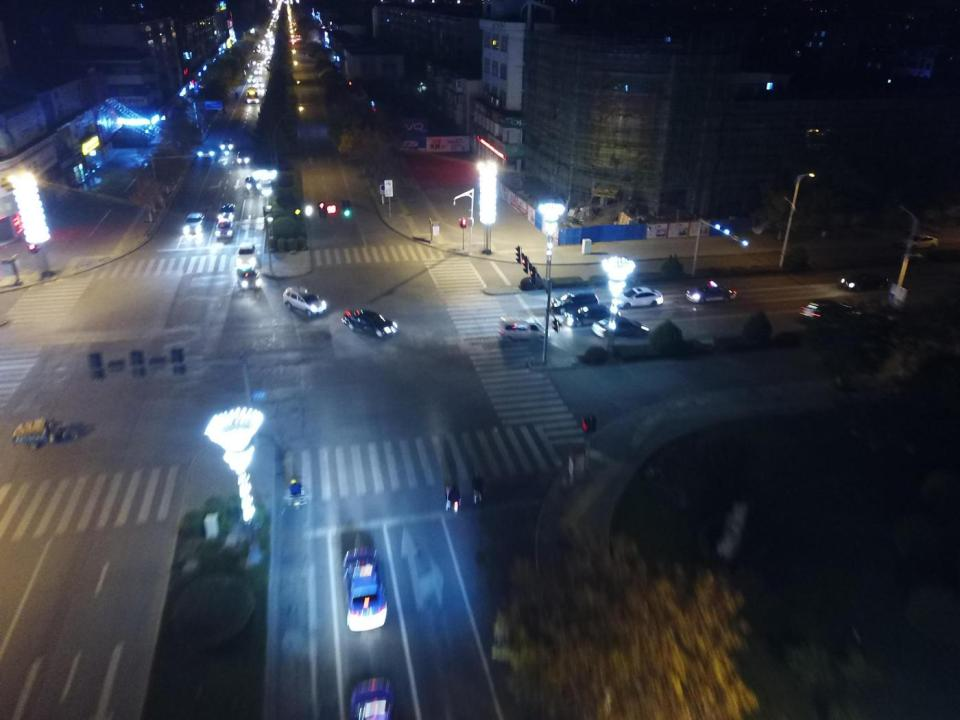bus: (246, 87, 259, 104)
car: (344, 530, 382, 631), (349, 677, 395, 720), (342, 310, 397, 339), (799, 299, 862, 324), (592, 312, 651, 337), (686, 280, 738, 304), (551, 290, 599, 314), (566, 303, 612, 327), (616, 287, 664, 308), (840, 274, 889, 292), (899, 233, 938, 248), (237, 266, 261, 288), (182, 210, 203, 232), (237, 243, 257, 266), (215, 220, 233, 238), (197, 142, 217, 158), (218, 203, 236, 220), (245, 175, 261, 190), (220, 137, 236, 150), (237, 150, 251, 164), (247, 75, 255, 82), (257, 88, 264, 94), (256, 82, 264, 87), (254, 69, 262, 74), (256, 60, 262, 66), (260, 44, 266, 50), (198, 83, 205, 88), (266, 50, 272, 55), (264, 59, 270, 63), (290, 38, 296, 42), (304, 51, 310, 55), (267, 33, 272, 37), (250, 60, 255, 64), (270, 41, 274, 45), (296, 34, 300, 38), (256, 44, 260, 48), (262, 40, 266, 44), (270, 38, 274, 41), (256, 49, 260, 52), (297, 38, 301, 40)
van: (282, 286, 329, 316), (497, 317, 549, 342)
